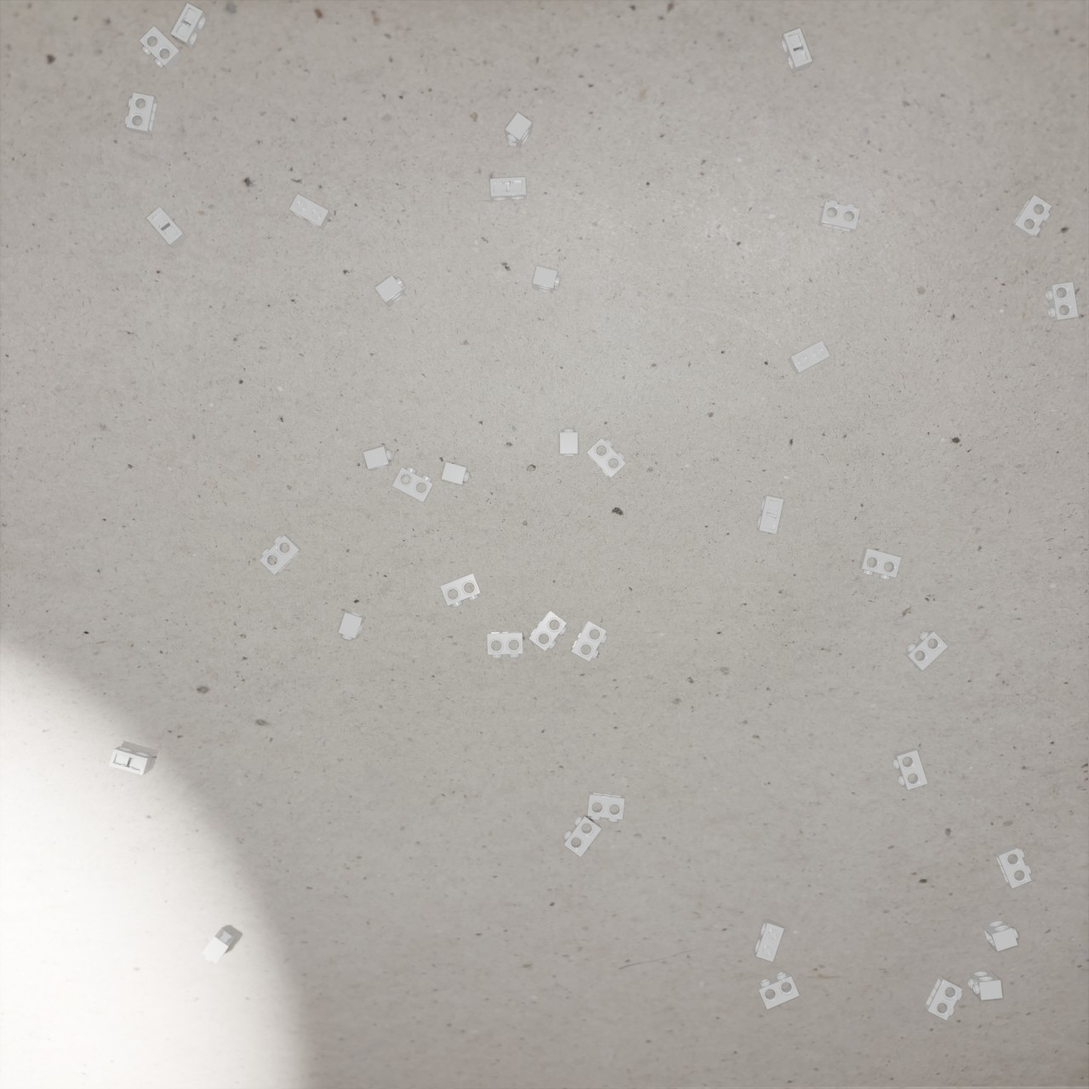lego: (139, 26, 183, 71), (1010, 195, 1052, 239), (923, 975, 963, 1021), (146, 206, 188, 249), (904, 630, 948, 671), (259, 535, 302, 575), (563, 813, 602, 857), (170, 3, 207, 49), (757, 971, 800, 1010), (994, 845, 1032, 889), (586, 438, 626, 479), (529, 610, 567, 651), (392, 466, 434, 503), (571, 620, 608, 662), (289, 194, 332, 230), (780, 28, 813, 74), (892, 748, 928, 790), (788, 340, 830, 375), (125, 92, 158, 136), (440, 573, 481, 608), (818, 200, 860, 233), (858, 548, 901, 580), (753, 918, 784, 962), (1045, 282, 1079, 322), (109, 746, 153, 776), (201, 927, 236, 964), (982, 919, 1018, 952), (587, 792, 625, 822), (756, 496, 784, 534), (968, 970, 1003, 1000), (375, 275, 406, 308), (505, 112, 532, 149), (487, 632, 523, 658), (490, 177, 527, 201), (338, 611, 366, 640), (363, 446, 394, 471), (533, 266, 560, 294), (441, 462, 471, 486), (560, 429, 578, 456)
